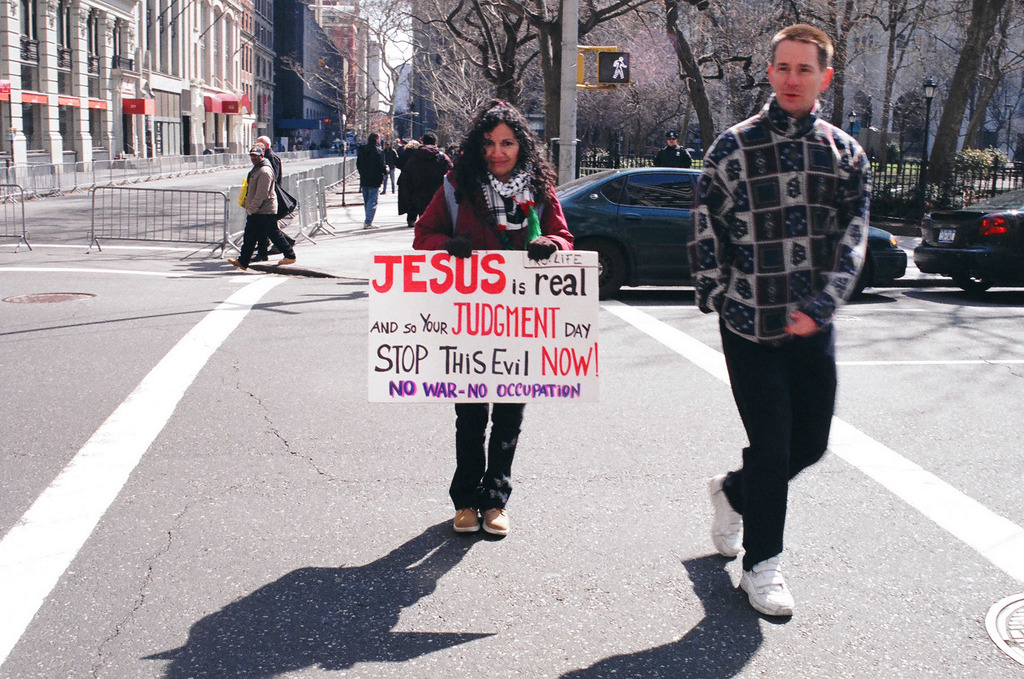Car: (556, 165, 907, 299), (892, 189, 1016, 286)
